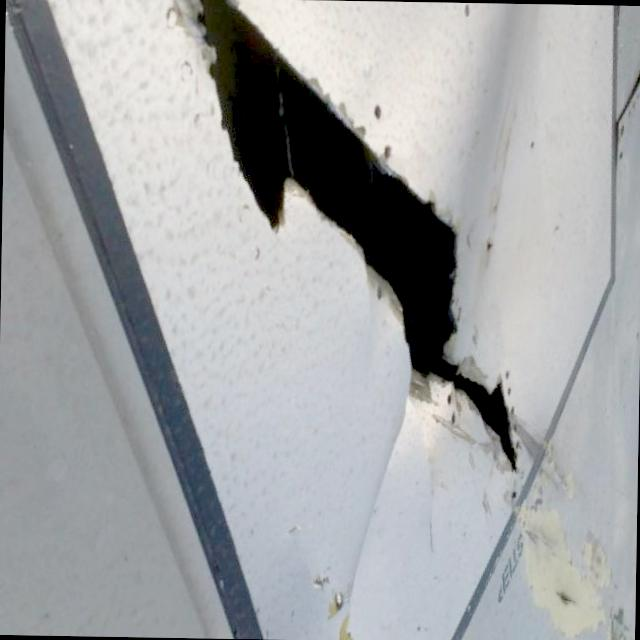crack: (185, 0, 529, 472), (551, 586, 577, 610)
